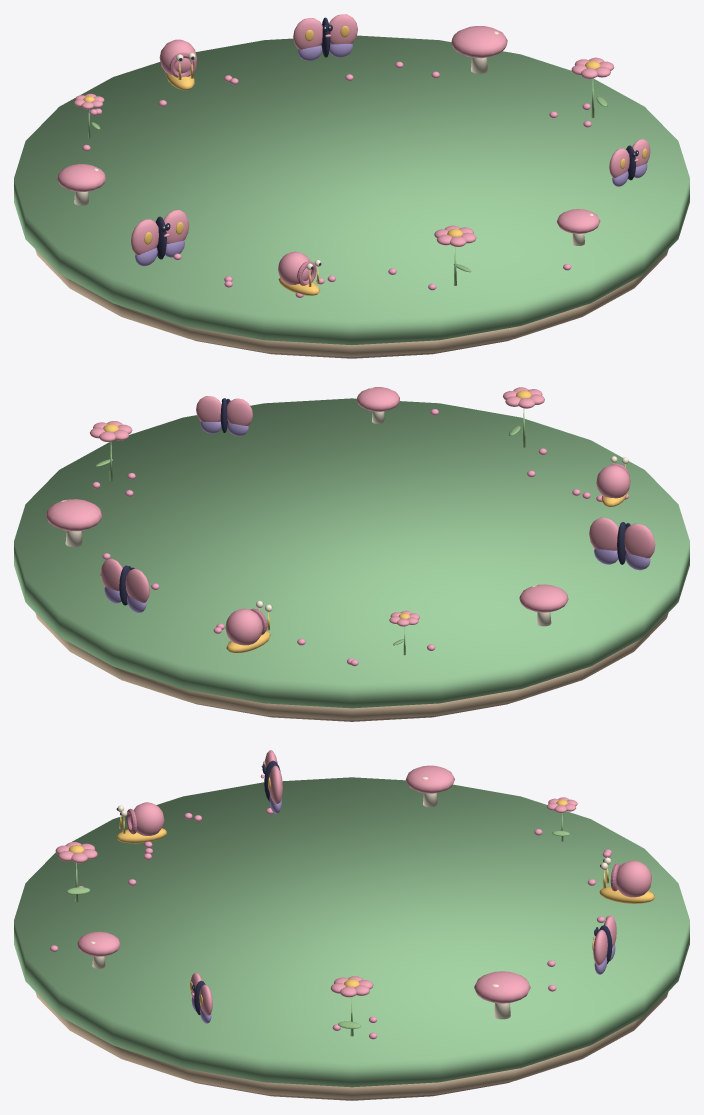
Rendered from world.glb.
3 renders of one model, top to bottom at view 1: azimuth 30°, elevation 25°; view 2: azimuth 150°, elevation 25°; view 3: azimuth 270°, elevation 25°, orthographic.
Parts seen in each view (by area): view 1: Cone, Cone.001, butterfly.001, butterfly.002, mushroom.001, snail.001, snail.002, butterfly.003, mushroom.002, mushroom.003, flower.001, flower.003 (+1 smaller); view 2: Cone, Cone.001, butterfly.002, butterfly.001, butterfly.003, snail.001, mushroom.001, mushroom.002, snail.002, mushroom.003, flower.003, flower.001 (+1 smaller); view 3: Cone, Cone.001, snail.001, mushroom.001, snail.002, mushroom.002, butterfly.001, mushroom.003, butterfly.002, flower.003, flower.001, butterfly.003 (+1 smaller).
Boxes of the visible parts, x1=… form: Cone: x1=14, y1=35, x2=689, y2=345; Cone.001: x1=35, y1=250, x2=668, y2=357; butterfly.001: x1=293, y1=14, x2=357, y2=60; butterfly.002: x1=131, y1=210, x2=189, y2=266; mushroom.001: x1=451, y1=26, x2=507, y2=73; snail.001: x1=159, y1=39, x2=196, y2=90; snail.002: x1=278, y1=251, x2=321, y2=295; butterfly.003: x1=609, y1=139, x2=650, y2=186; mushroom.002: x1=57, y1=164, x2=105, y2=205; mushroom.003: x1=557, y1=209, x2=600, y2=245; flower.001: x1=571, y1=57, x2=614, y2=117; flower.003: x1=434, y1=225, x2=476, y2=285; Cone: x1=14, y1=398, x2=689, y2=708; Cone.001: x1=35, y1=613, x2=668, y2=720; butterfly.002: x1=589, y1=517, x2=655, y2=570; butterfly.001: x1=101, y1=558, x2=149, y2=612; butterfly.003: x1=196, y1=396, x2=252, y2=436; snail.001: x1=225, y1=600, x2=272, y2=653; mushroom.001: x1=46, y1=499, x2=102, y2=547; mushroom.002: x1=519, y1=584, x2=568, y2=626; snail.002: x1=596, y1=456, x2=630, y2=506; mushroom.003: x1=357, y1=387, x2=399, y2=423; flower.003: x1=503, y1=387, x2=544, y2=447; flower.001: x1=90, y1=421, x2=132, y2=481; Cone: x1=14, y1=777, x2=689, y2=1087; Cone.001: x1=35, y1=992, x2=668, y2=1099; snail.001: x1=599, y1=857, x2=655, y2=903; mushroom.001: x1=474, y1=971, x2=530, y2=1019; snail.002: x1=116, y1=802, x2=166, y2=843; mushroom.002: x1=405, y1=765, x2=454, y2=807; butterfly.001: x1=592, y1=915, x2=616, y2=974; mushroom.003: x1=77, y1=931, x2=120, y2=968; butterfly.002: x1=260, y1=750, x2=282, y2=813; flower.003: x1=55, y1=842, x2=97, y2=902; flower.001: x1=330, y1=976, x2=373, y2=1036; butterfly.003: x1=190, y1=972, x2=212, y2=1023.
Bounding box in the file's own units: 9.6 × 1.67 × 9.6.
